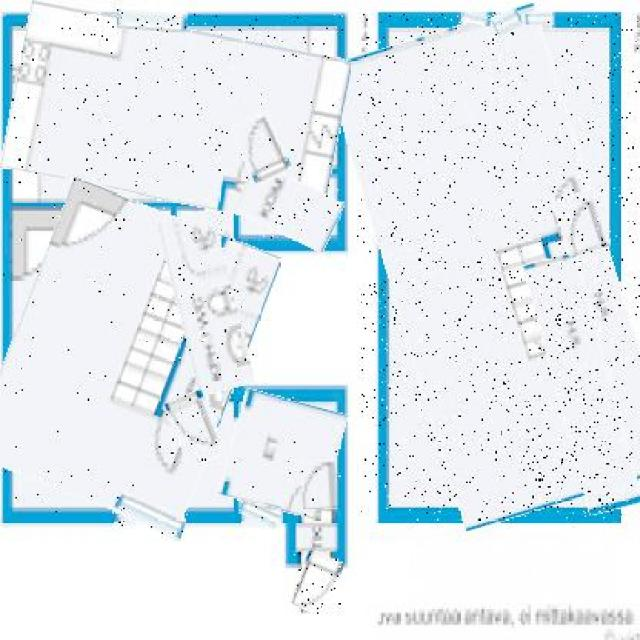door: (171, 390, 220, 464), (237, 115, 288, 183), (557, 190, 606, 256), (296, 551, 342, 614), (301, 462, 337, 509)
window: (114, 498, 186, 536), (117, 10, 188, 32), (240, 505, 280, 526), (492, 10, 523, 32), (524, 15, 554, 28), (460, 13, 491, 24)
zone: (357, 14, 640, 520), (0, 194, 257, 518), (6, 16, 345, 216), (539, 254, 626, 515), (225, 394, 342, 515), (168, 212, 243, 394), (237, 171, 341, 243)
